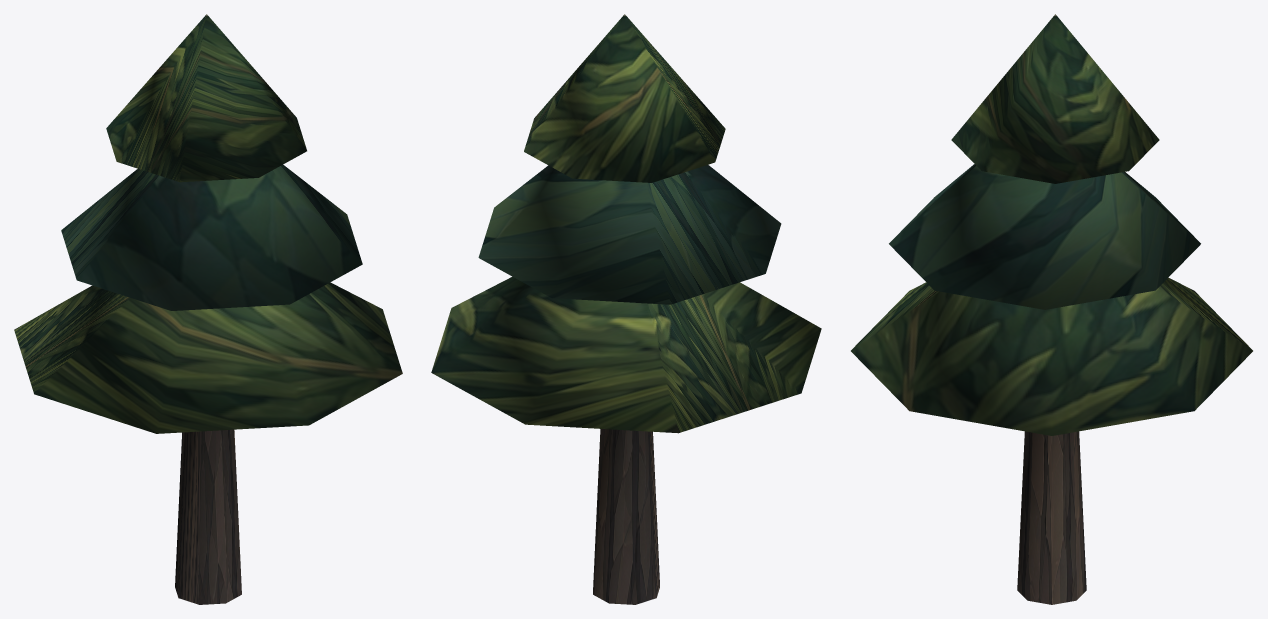
File: tree_pine_stacked.obj
3 renders of one model, left to right at view 1: azimuth 30°, elevation 25°; view 2: azimuth 150°, elevation 25°; view 3: azimuth 270°, elevation 25°, orthographic.
Visible parts, largest first — view 1: tree_pine_stacked; view 2: tree_pine_stacked; view 3: tree_pine_stacked.
Part boxes in pixels (bbox=[...]): tree_pine_stacked: bbox=[14, 14, 402, 604]; tree_pine_stacked: bbox=[431, 14, 821, 604]; tree_pine_stacked: bbox=[851, 14, 1252, 604].
Size of the model in its own units: 1.16 by 1.83 by 1.16.
3 materials, 3 textured.
